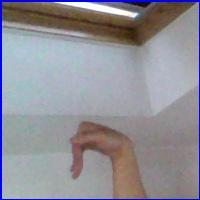del: (64, 122, 133, 184)
